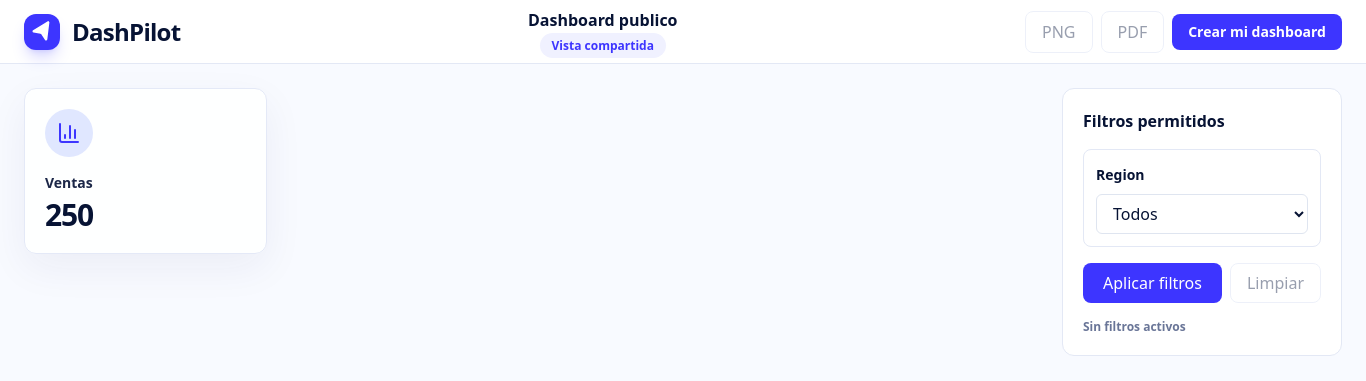
Test case: PublicSharePage filters › clears public filters back to the base snapshot
The image size is (1366, 381).
Select "RM" in the dropdown labelled "Region" at (1202, 214), box [1096,194,1308,234]
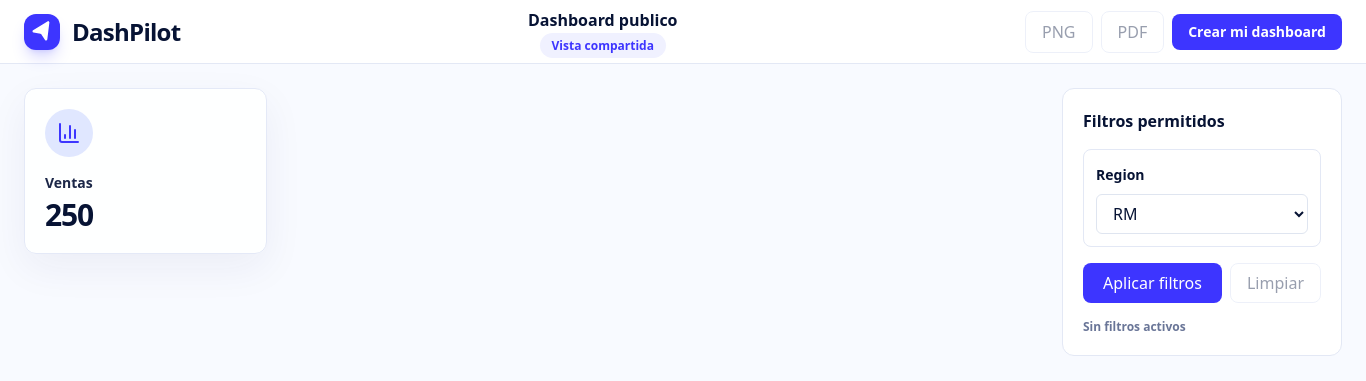
Click the button "Aplicar filtros" at (1152, 283), box [1083,263,1222,303]
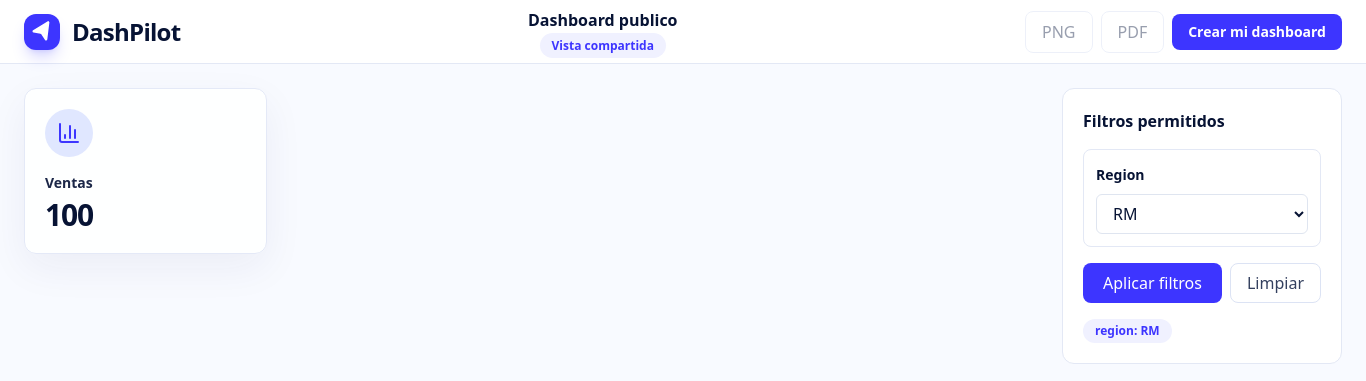
Check: the text "region: RM" is shown, box [1083,319,1172,343]
Click the button "Limpiar" at (1276, 283), box [1230,263,1321,303]
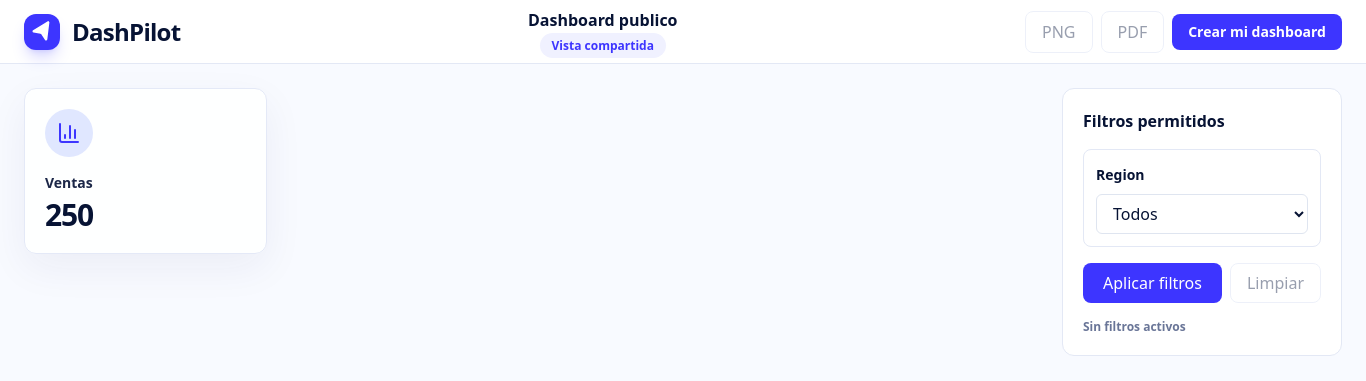
Check: the text "Sin filtros activos" is shown, box [1083,319,1186,335]
